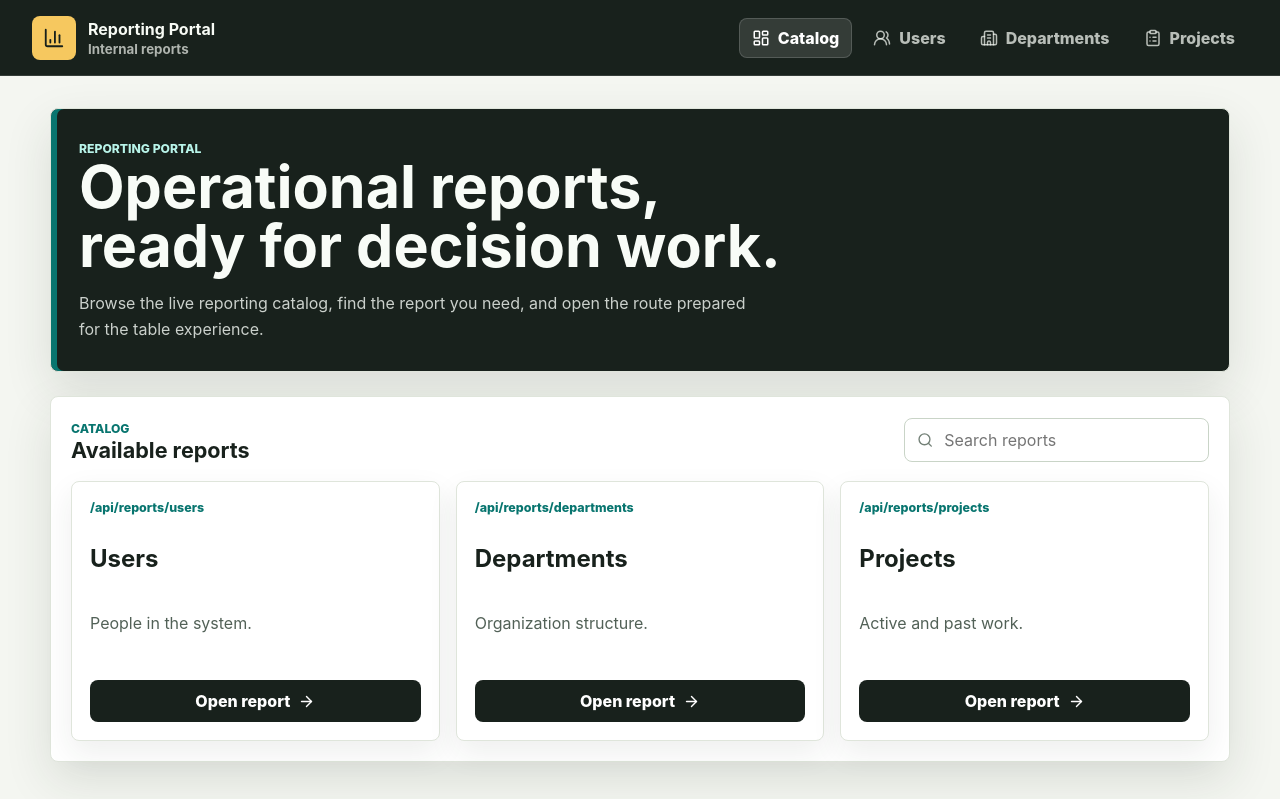
it: AppShell › navigates from a report card to the matching report route
The image size is (1280, 799).
Click the link with aria-label "Open Users report" at coordinates (255, 701), box [90,680,421,722]
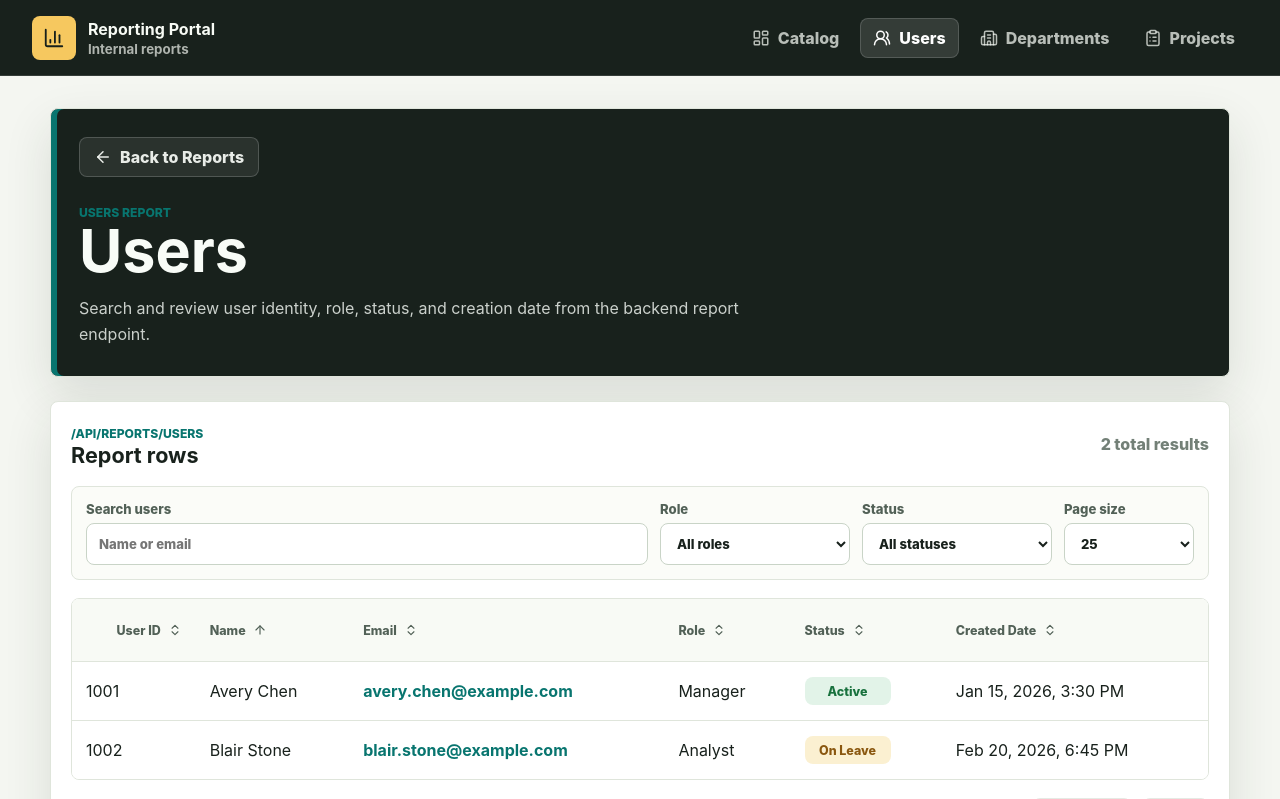
Result: the heading "Users" is shown at [79,215,248,286]
